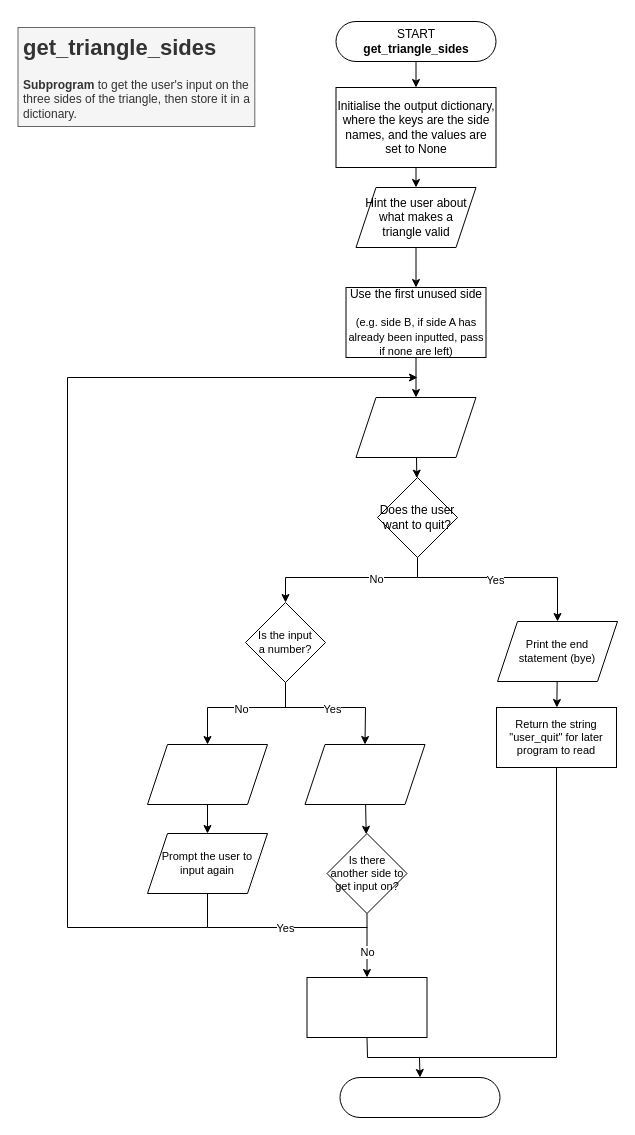
The diagram is 635 pixels wide and 1135 high, and some of its shapes have lost their labels. Each missing label, with the box of its shape:
END get_triangle_sides: (339, 1076, 500, 1118)
Get user input on length of the side: (355, 396, 476, 458)
Return a dictionary where key = side name, value = side length: (306, 976, 427, 1038)
Tell the user their input was not a number: (146, 744, 268, 804)
Tell the user their input was saved, and print it out again: (304, 744, 425, 804)
